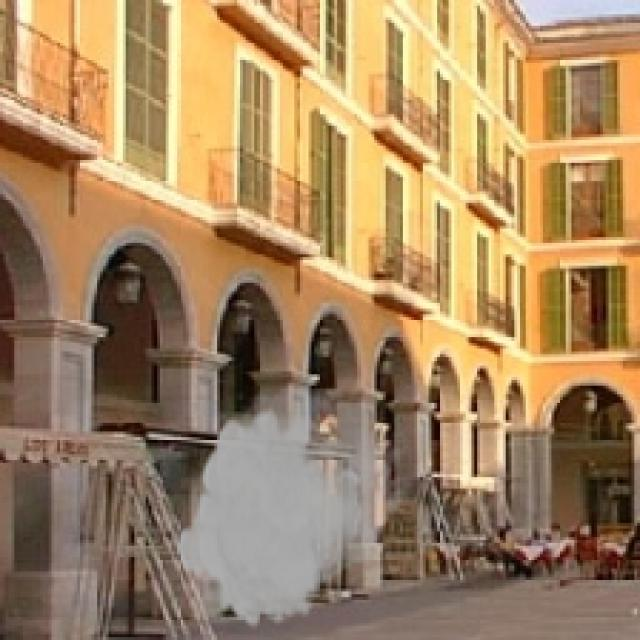smoke: (175, 388, 412, 632)
